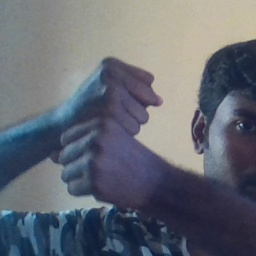G: (60, 54, 168, 200)
